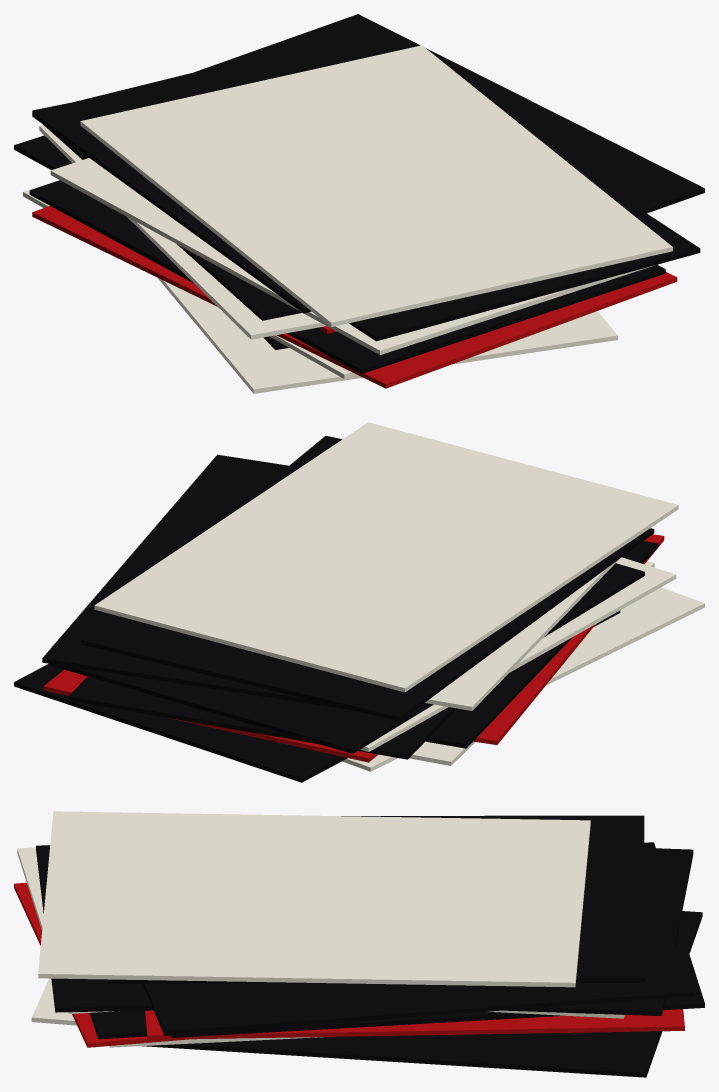
Rendered from Item_OR_Cards_11.glb.
The picture shows the model from 3 angles, top to bottom: view 1: azimuth 30°, elevation 25°; view 2: azimuth 150°, elevation 25°; view 3: azimuth 270°, elevation 25°; orthographic projection. The views are drawn at different scales.
Visible parts, largest first — view 1: Item_OR_Cards_11; view 2: Item_OR_Cards_11; view 3: Item_OR_Cards_11.
Boxes of the visible parts, bbox=[...] form: Item_OR_Cards_11: bbox=[14, 14, 704, 393]; Item_OR_Cards_11: bbox=[14, 422, 704, 782]; Item_OR_Cards_11: bbox=[14, 811, 704, 1077].
Size of the model in its own units: 0.0911 by 0.0138 by 0.1131.
